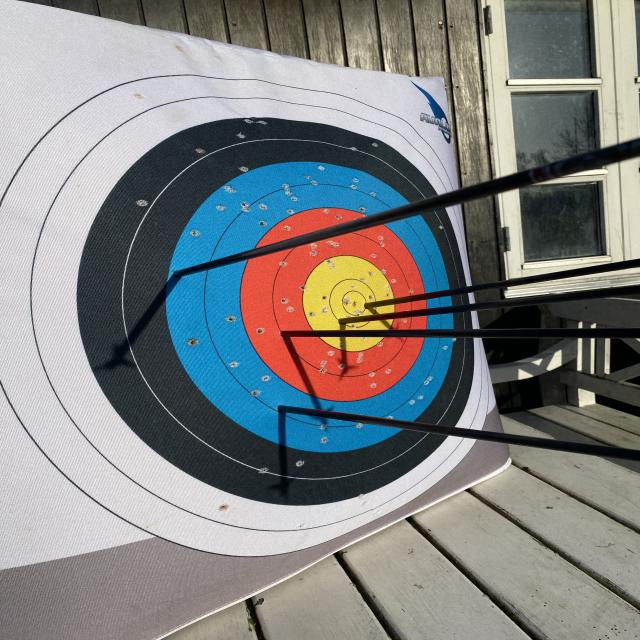Arrow_Blue: (161, 256, 203, 296), (273, 397, 304, 425)
Arrow_Red: (272, 318, 313, 356)
Arrow_Yellow: (347, 290, 395, 316), (324, 308, 363, 332)
